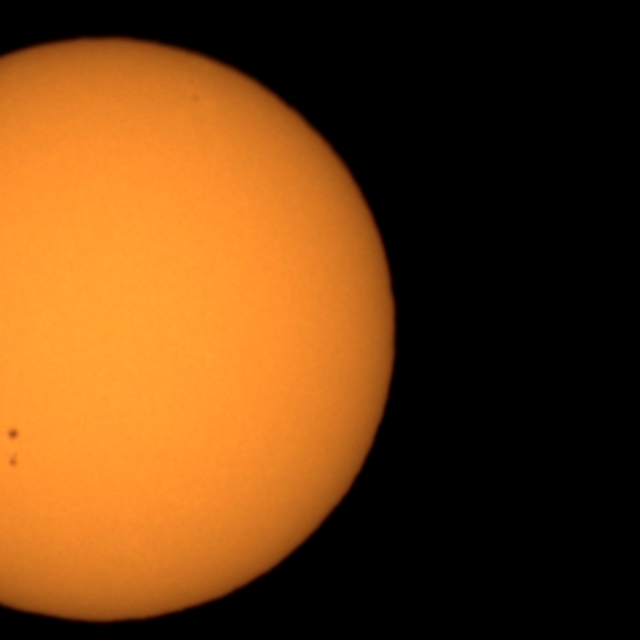sunspot: (3, 433, 23, 474), (4, 425, 22, 445), (6, 450, 22, 471)
